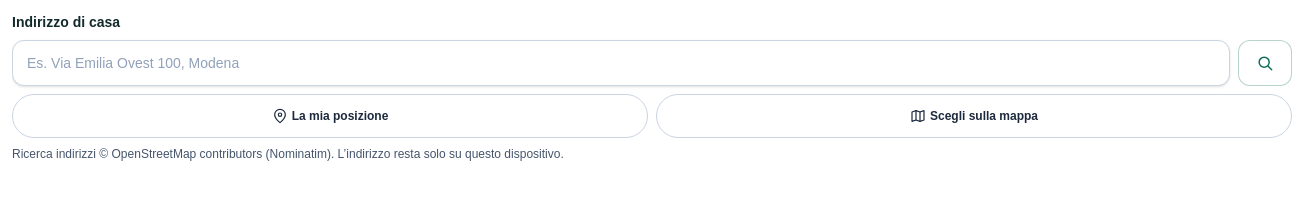
Scenario: HomeLocationField › spiega query troppo corte, nessun risultato ed errori del servizio
In the search field labelled "Indirizzo di casa": (621, 63) x1=12 y1=40 x2=1230 y2=86, type "ab"
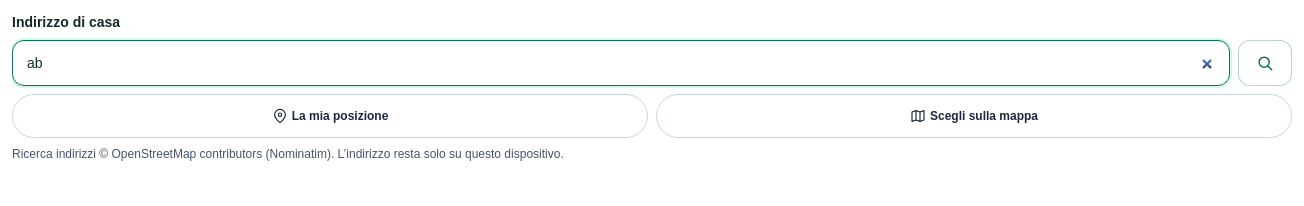
Click the button named "Cerca indirizzo": (1265, 63) x1=1238 y1=40 x2=1292 y2=86
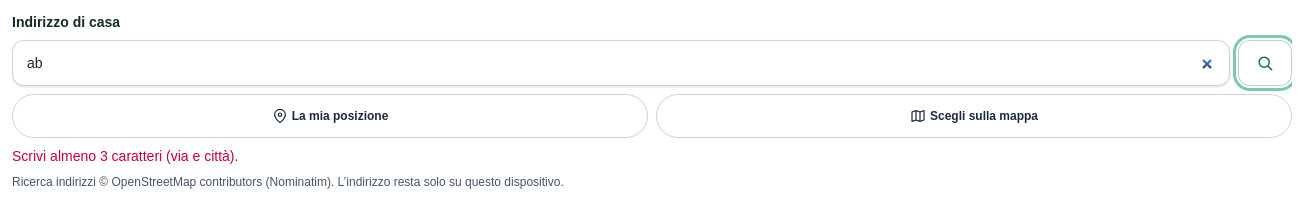
Result: the message shows "almeno 3 caratteri" at x1=12 y1=148 x2=238 y2=164
In the search field labelled "Indirizzo di casa": (621, 63) x1=12 y1=40 x2=1230 y2=86, type "cdef"
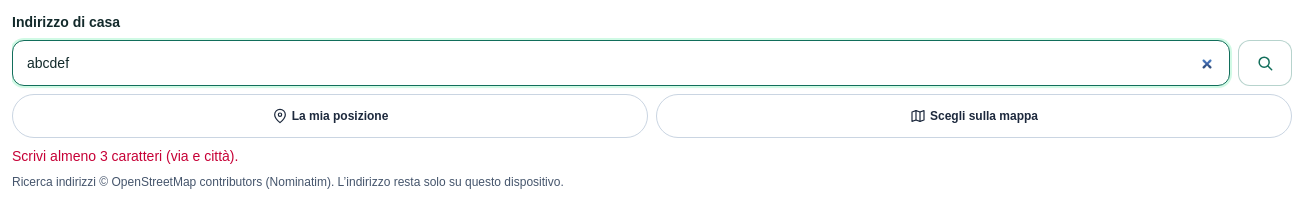
Click the button named "Cerca indirizzo": (1265, 63) x1=1238 y1=40 x2=1292 y2=86
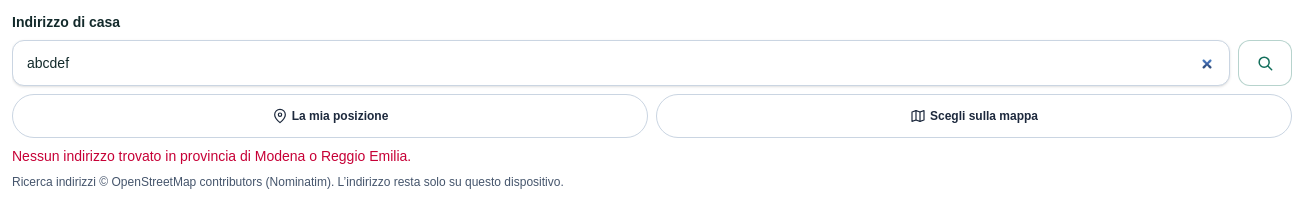
Result: the message shows "Nessun indirizzo trovato" at x1=12 y1=148 x2=411 y2=164
Click the button named "Cerca indirizzo": (1265, 63) x1=1238 y1=40 x2=1292 y2=86
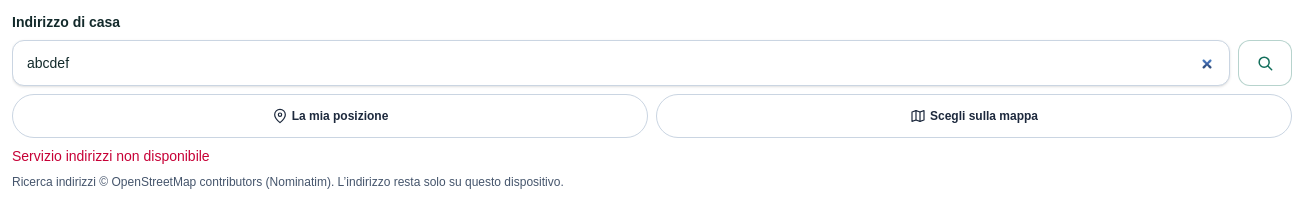
Result: the text "Servizio indirizzi non disponibile" is shown at x1=12 y1=148 x2=210 y2=164
